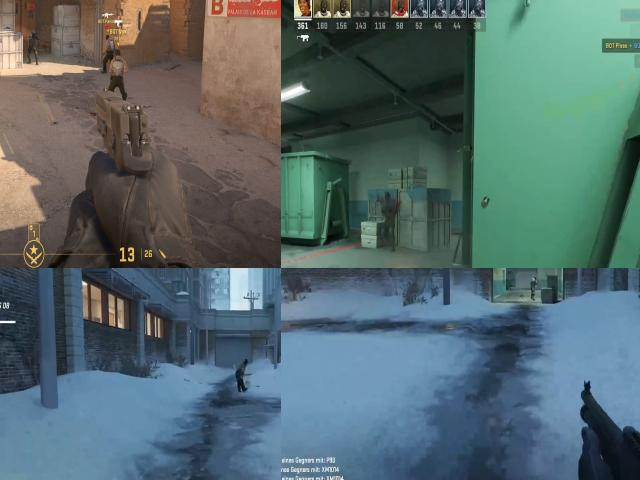CT: (383, 189, 398, 234), (26, 29, 40, 64), (528, 276, 537, 296)
CT-Head: (383, 193, 393, 203), (532, 275, 538, 284), (31, 31, 35, 36)
Dead: (236, 356, 250, 386)
T: (111, 48, 126, 98), (102, 34, 115, 74)
T-Head: (115, 49, 121, 57), (106, 34, 110, 39)
